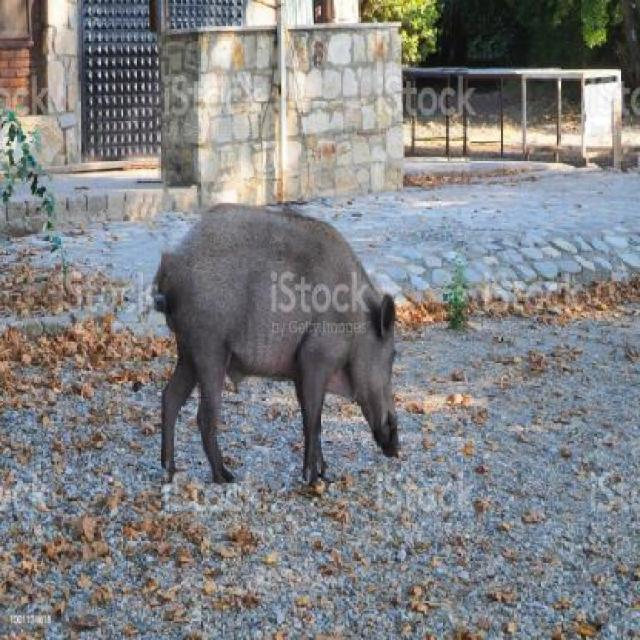wildboar: (147, 196, 404, 490)
